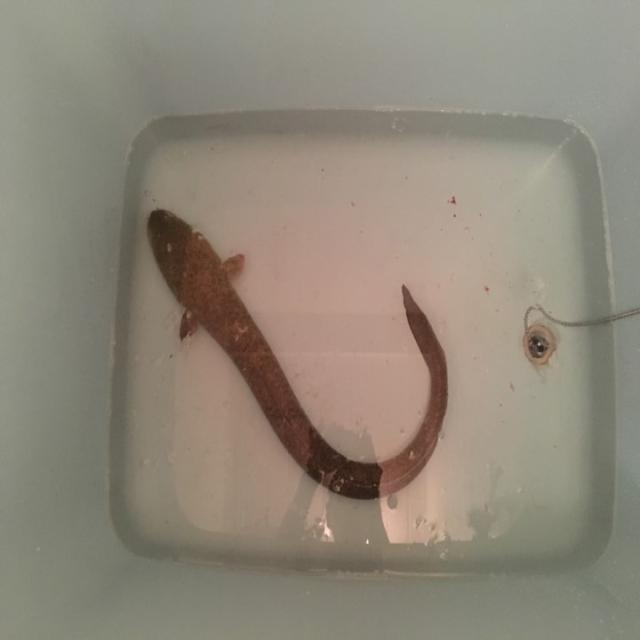Freshwater-Eel: (88, 164, 547, 544)
